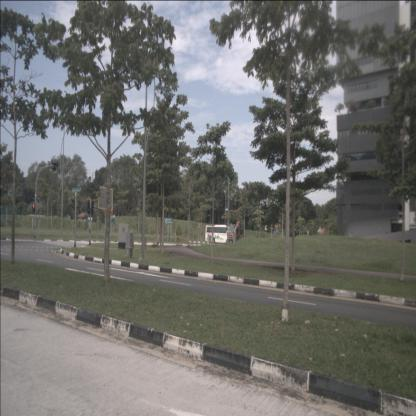vehicle-bus-rigid: (205, 224, 236, 244)
